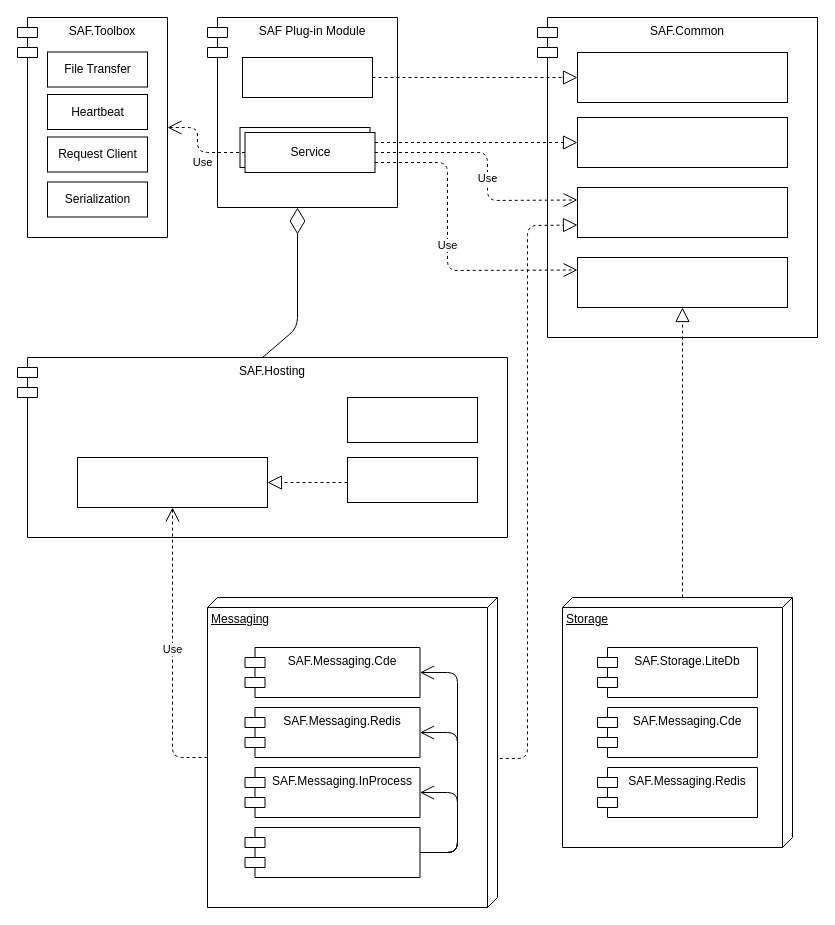
Image size: 835x925. Some labels were removed from this diagram. The centre of each missing label's shape, as x and y in pixels:
"AssemblyManifest" goes at pixel 307 77.
"MessageDispatcher" goes at pixel 412 479.
"SAF.Messaging.Routing" goes at pixel 332 852.
"ServiceHost" goes at pixel 412 419.
"«interface» IHostedService" goes at pixel 682 142.
"«interface» IMessagingInfrastructure" goes at pixel 682 212.
"«interface» IServiceAssemblyManifest" goes at pixel 682 77.
"«interface» IServiceMessageDispatcher" goes at pixel 172 482.
"«interface» IStorageInfrastructure" goes at pixel 682 282.
